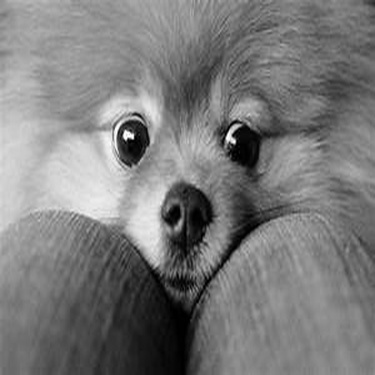dog: (1, 3, 369, 315)
